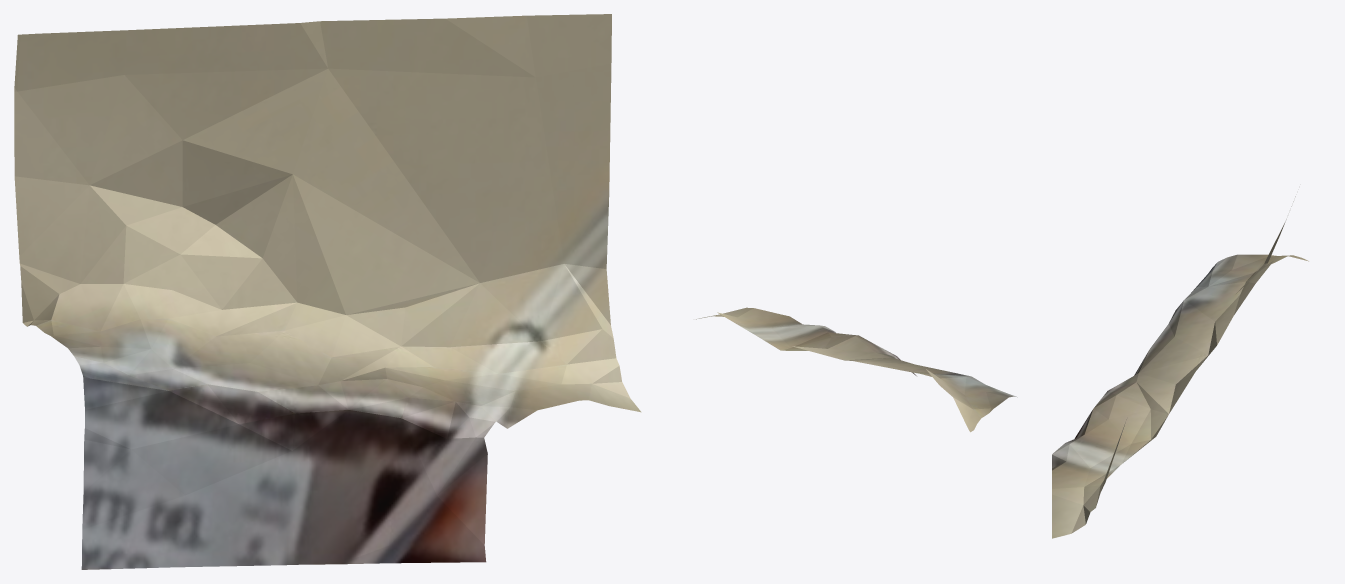
The picture shows the model from 3 angles, left to right: view 1: azimuth 30°, elevation 25°; view 2: azimuth 150°, elevation 25°; view 3: azimuth 270°, elevation 25°; orthographic projection. The views are drawn at different scales.
Size of the model in its own units: 0.8374 by 0.8374 by 0.4992.
3 materials, 3 textured.
